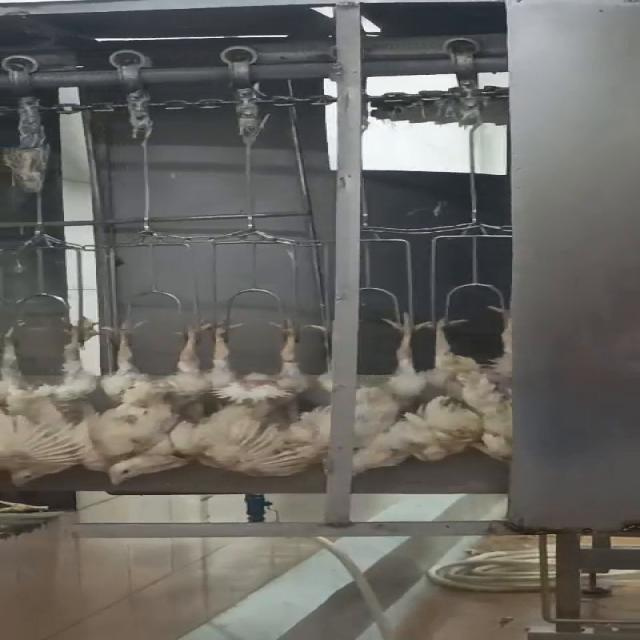chicken: (194, 308, 336, 482), (0, 314, 103, 492), (91, 318, 198, 488), (347, 306, 445, 479), (423, 299, 517, 466)
